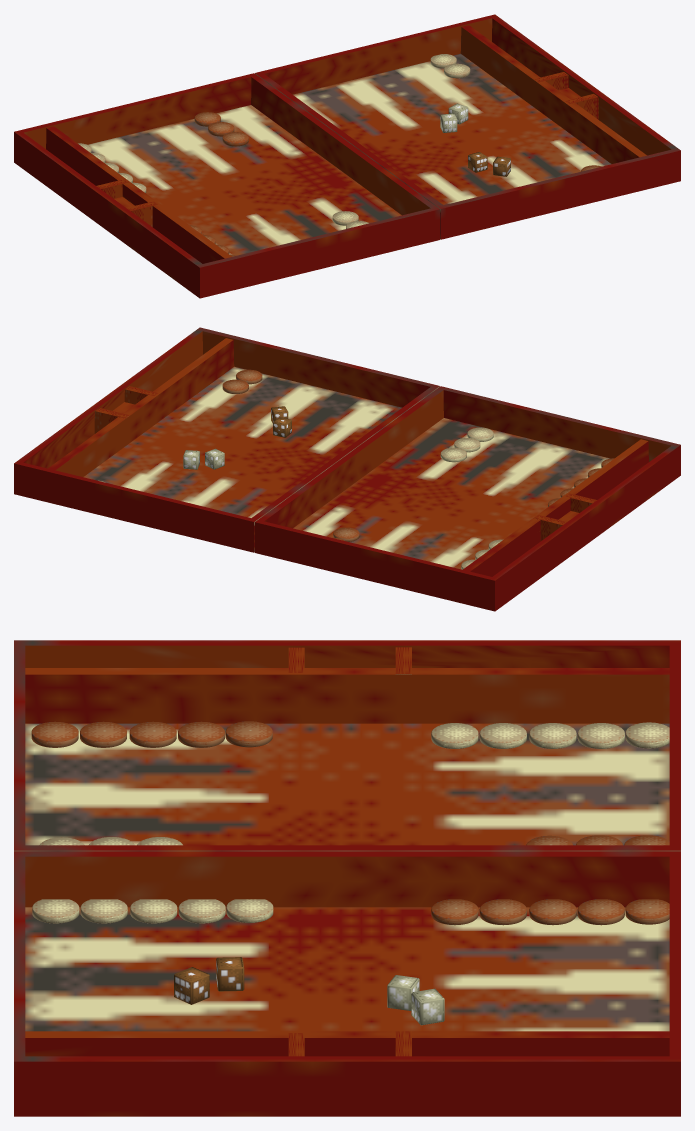
File: BackgammonBoard_sm.fbx
The picture shows the model from 3 angles, top to bottom: view 1: azimuth 30°, elevation 25°; view 2: azimuth 150°, elevation 25°; view 3: azimuth 270°, elevation 25°; orthographic projection. The views are drawn at different scales.
Visible parts, largest first — view 1: Cube; view 2: Cube; view 3: Cube, Cube.003, Cube.001, Cylinder.040, Cylinder.046, Cylinder.048, Cylinder.044, Cylinder.036, Cylinder.038, Cylinder.042, Cylinder.047, Cylinder.049 (+13 smaller).
Boxes of the visible parts, box(x1,y1,x2,y2) form: Cube: box(14, 14, 680, 298); Cube: box(14, 327, 680, 611); Cube: box(14, 640, 680, 1116); Cube.003: box(174, 967, 209, 1004); Cube.001: box(411, 988, 444, 1025); Cylinder.040: box(225, 721, 272, 747); Cylinder.046: box(431, 899, 478, 925); Cylinder.048: box(529, 899, 576, 925); Cylinder.044: box(577, 723, 624, 748); Cylinder.036: box(31, 721, 78, 747); Cylinder.038: box(129, 721, 176, 747); Cylinder.042: box(479, 723, 526, 748); Cylinder.047: box(479, 899, 526, 925); Cylinder.049: box(577, 899, 624, 925).
Bounding box in the file's own units: 82.56 × 5.04 × 55.26.
